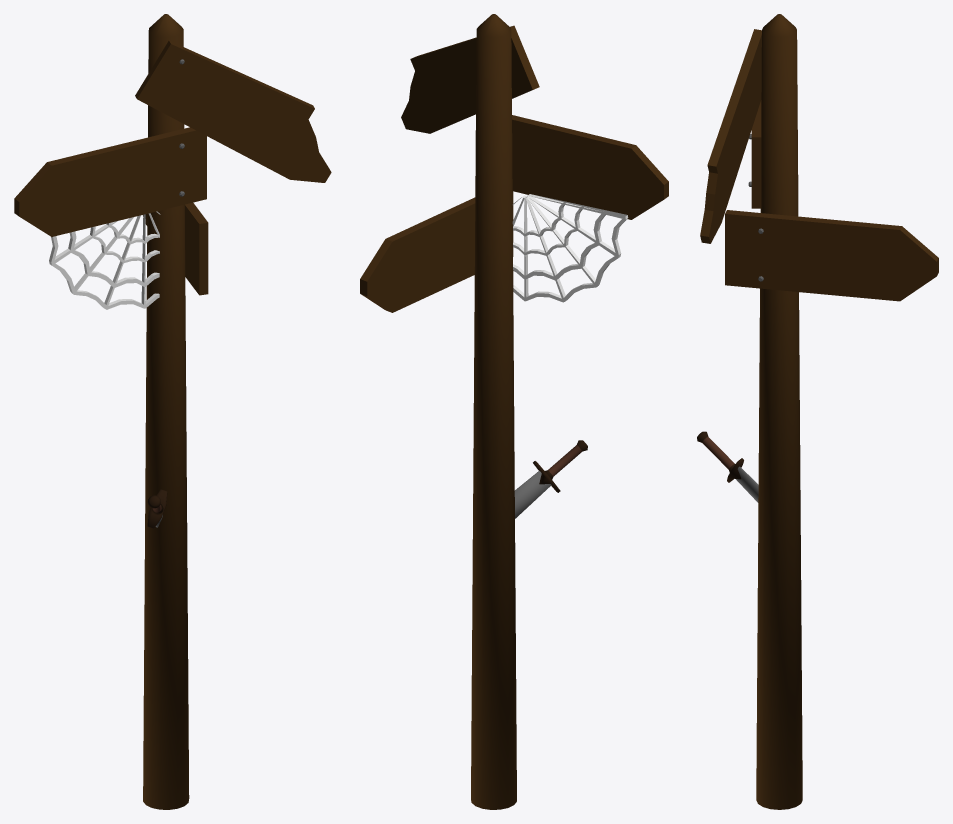
File: Haunted Sign.glb
3 renders of one model, left to right at view 1: azimuth 30°, elevation 25°; view 2: azimuth 150°, elevation 25°; view 3: azimuth 270°, elevation 25°, orthographic.
Visible parts, largest first — view 1: Haunted Sign; view 2: Haunted Sign; view 3: Haunted Sign.
Part boxes in pixels (x1=…): Haunted Sign: x1=14, y1=14, x2=331, y2=809; Haunted Sign: x1=360, y1=14, x2=668, y2=809; Haunted Sign: x1=697, y1=14, x2=938, y2=809.
Size of the model in its own units: 0.9406 by 2.44 by 0.6814.
